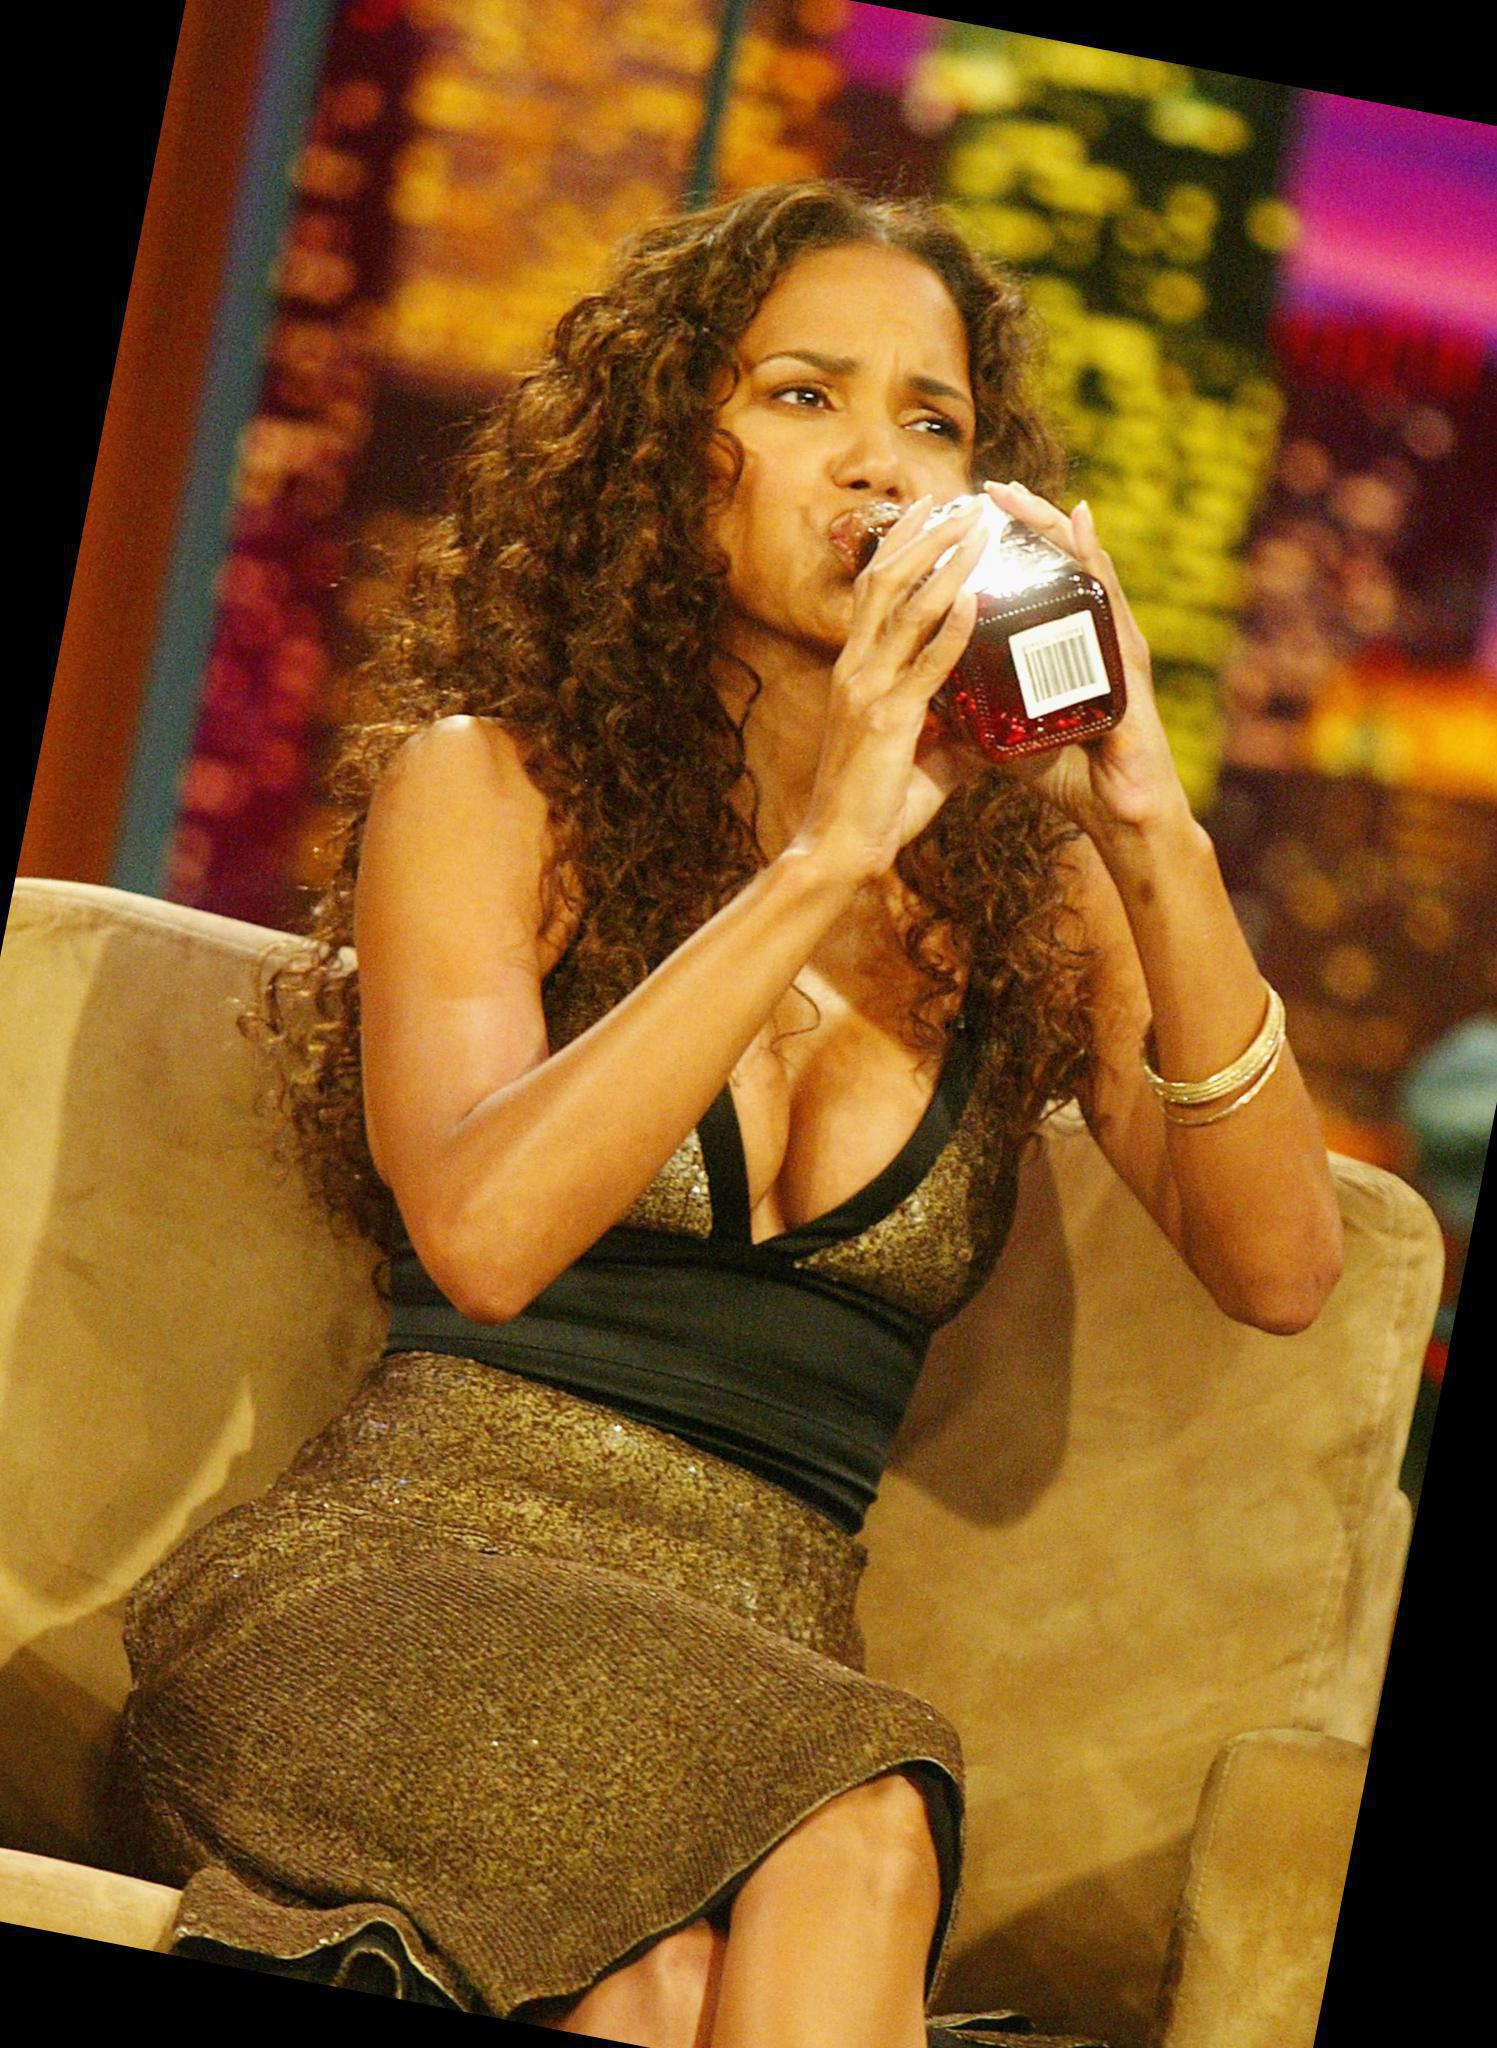Drunk: (732, 256, 982, 633)
